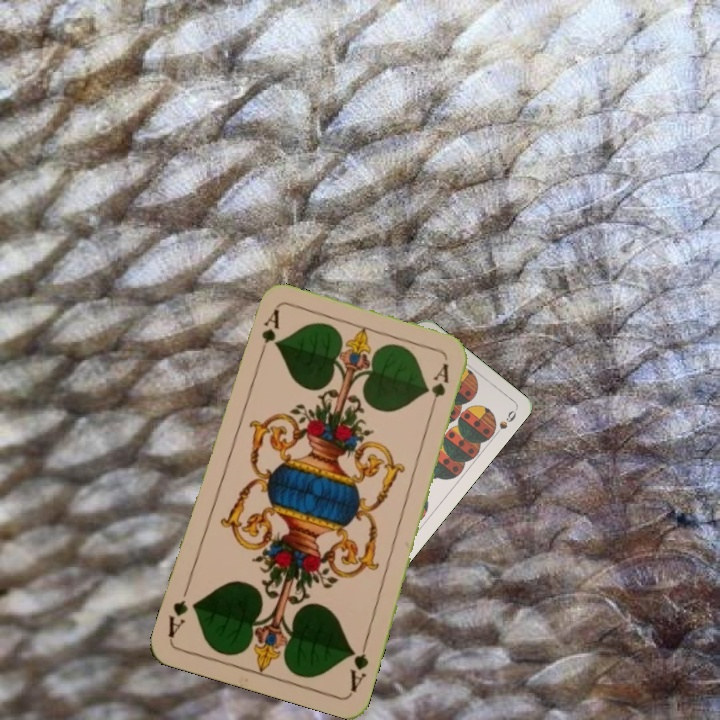GA: (254, 306, 282, 364), (345, 636, 372, 695)
